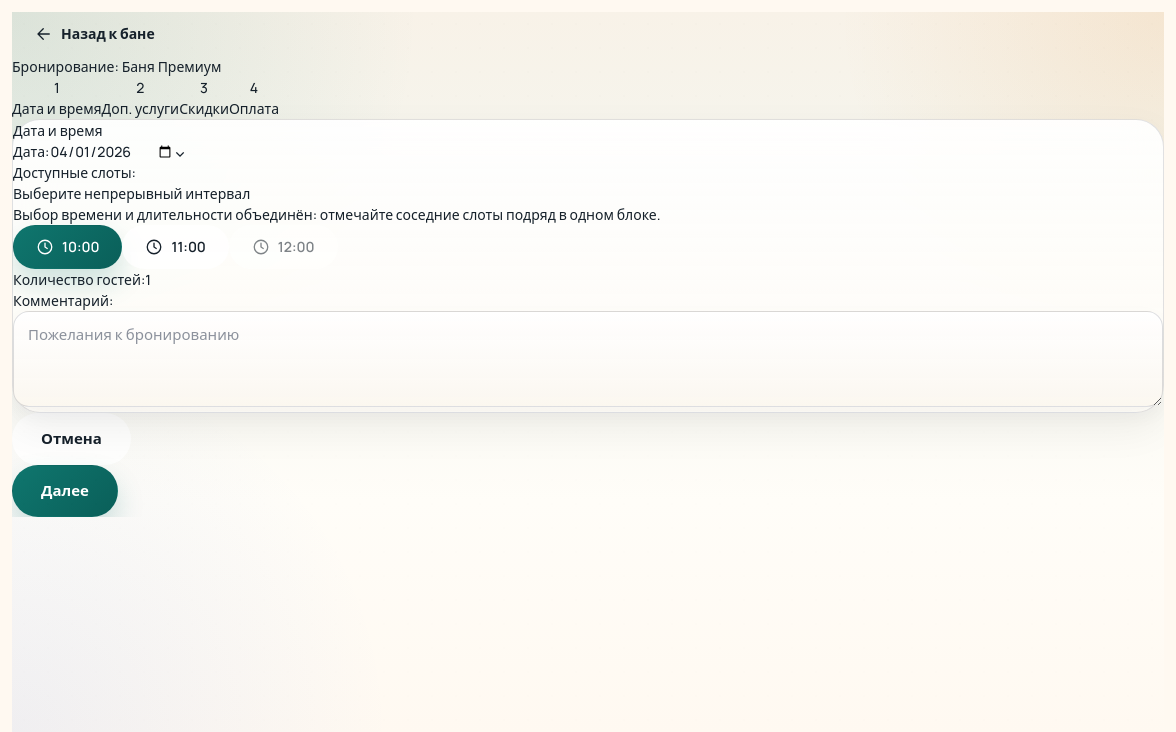
Scenario: BookingCreate › Step 3: Discounts › renders promo code input
Click the button "Далее". click: (65, 491)
box: [12,465,118,517]
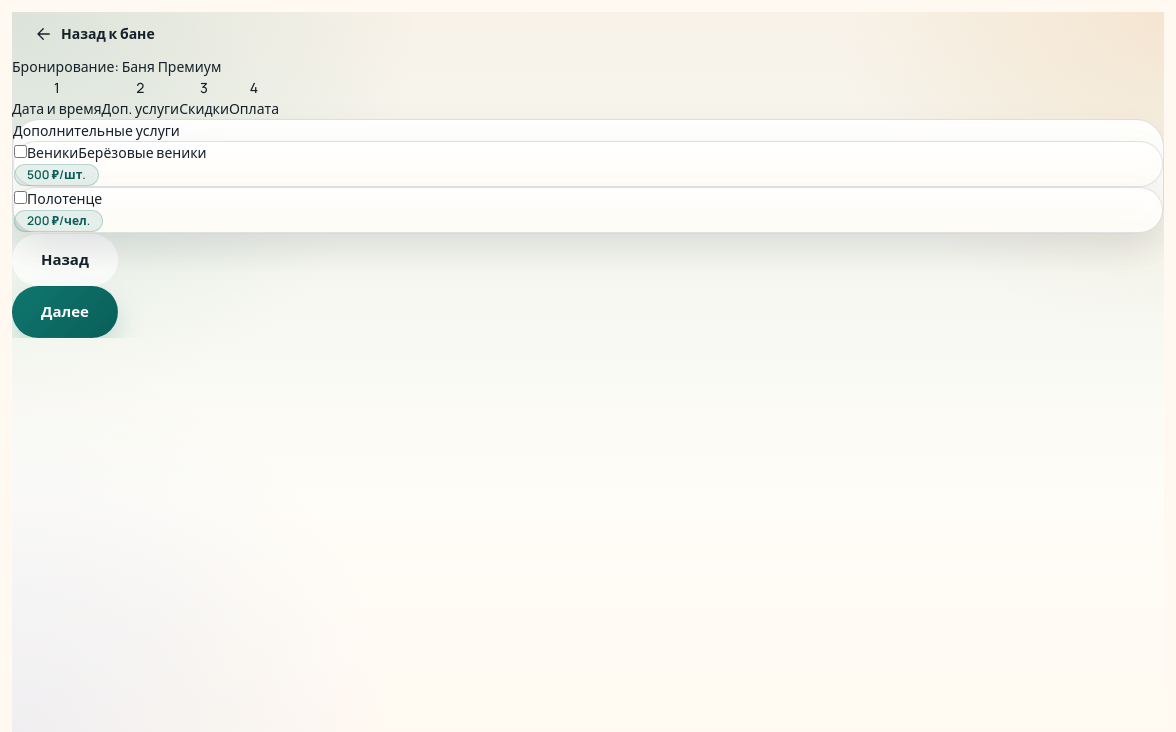
Click the button "Далее". click: (65, 312)
box: [12,286,118,338]
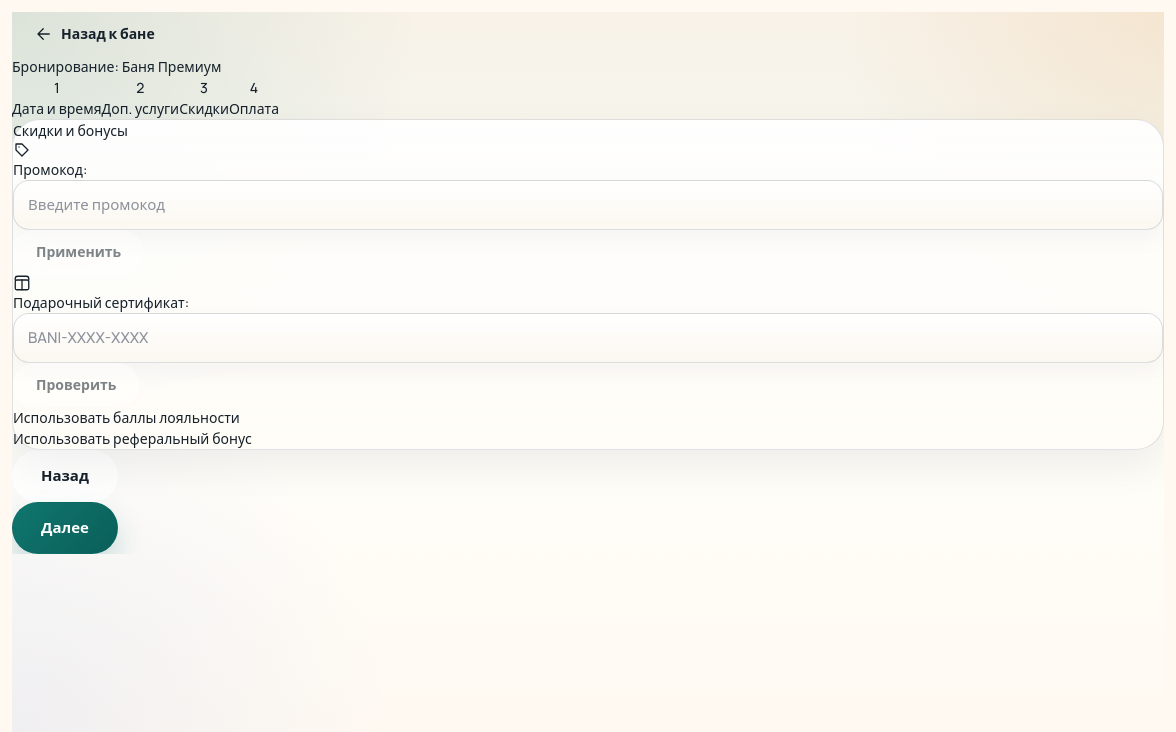
Result: the field with placeholder "Введите промокод" is shown at [13,180,1163,230]
Result: the text "Применить" is shown at [36,242,121,262]
